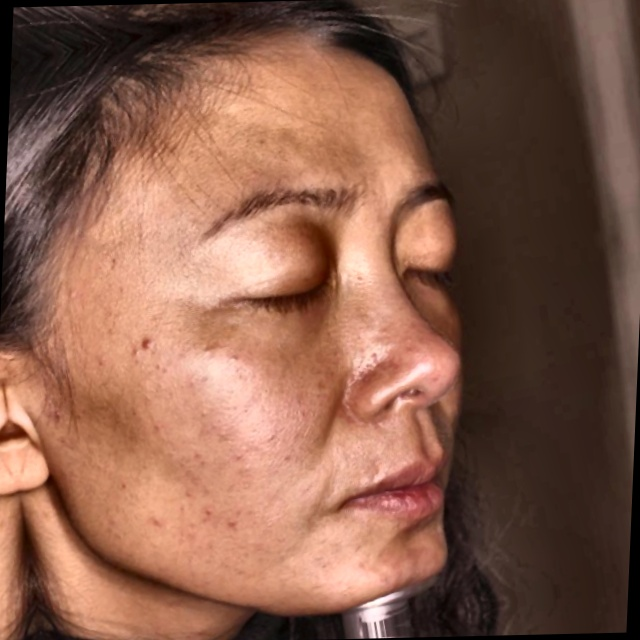comedone: (124, 328, 167, 365)
